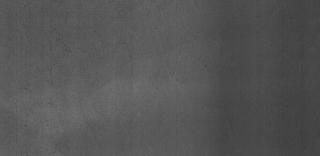silk spot: (118, 23, 210, 98)
